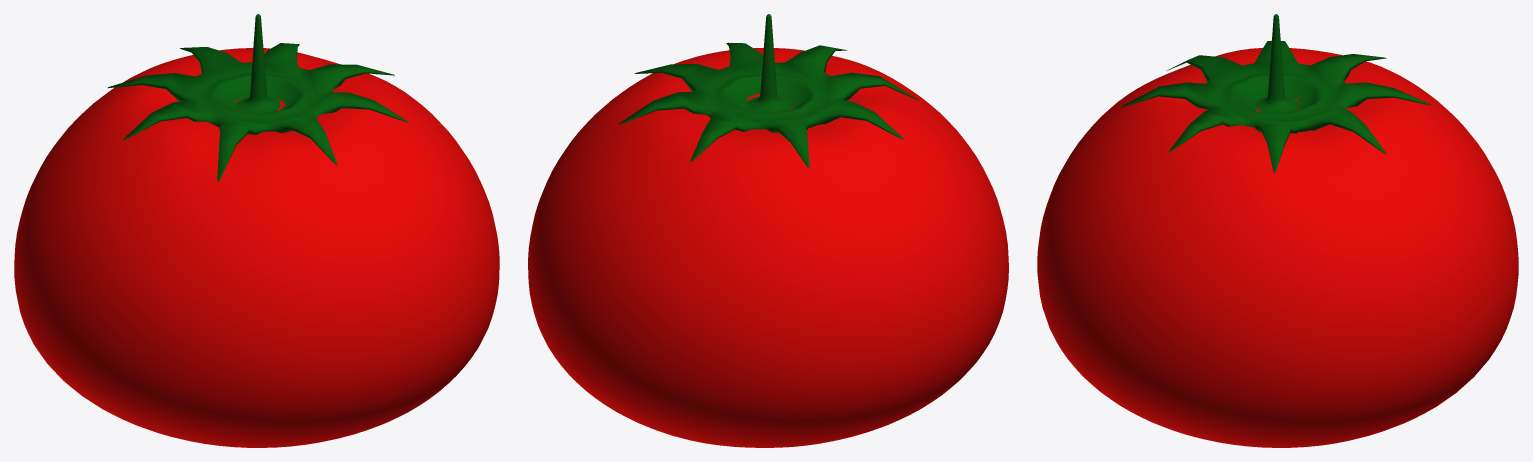
Rendered from tomato.fbx.
3 renders of one model, left to right at view 1: azimuth 30°, elevation 25°; view 2: azimuth 150°, elevation 25°; view 3: azimuth 270°, elevation 25°, orthographic.
Parts seen in each view (by area): view 1: Sphere, Circle; view 2: Sphere, Circle; view 3: Sphere, Circle.
Part boxes in pixels (x1,y1,x2,y2): Sphere: [14, 48, 499, 447]; Circle: [108, 14, 408, 181]; Sphere: [528, 48, 1008, 447]; Circle: [618, 14, 918, 167]; Sphere: [1037, 48, 1518, 447]; Circle: [1121, 14, 1431, 172].
Bounding box in the file's own units: 201 × 185 × 201.
